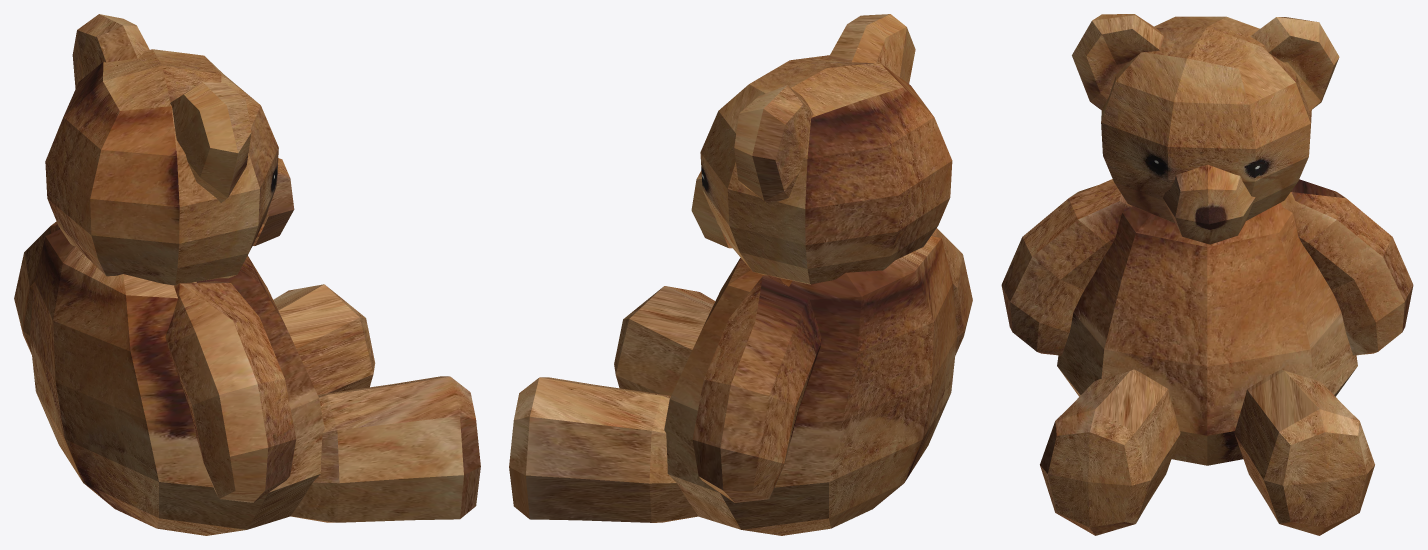
The model's file is bear.fbx.
3 views of the same model, side by side, from view 1: azimuth 30°, elevation 25°; view 2: azimuth 150°, elevation 25°; view 3: azimuth 270°, elevation 25° (orthographic). The views are drawn at different scales.
Visible parts, largest first — view 1: Teddybear; view 2: Teddybear; view 3: Teddybear.
Boxes of the visible parts, bbox=[...] form: Teddybear: bbox=[14, 14, 480, 535]; Teddybear: bbox=[509, 14, 972, 535]; Teddybear: bbox=[1001, 14, 1413, 535].
Size of the model in its own units: 64.52 by 80.46 by 71.04.
1 material, 1 textured.
